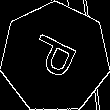P_SE: (25, 30, 85, 86)
